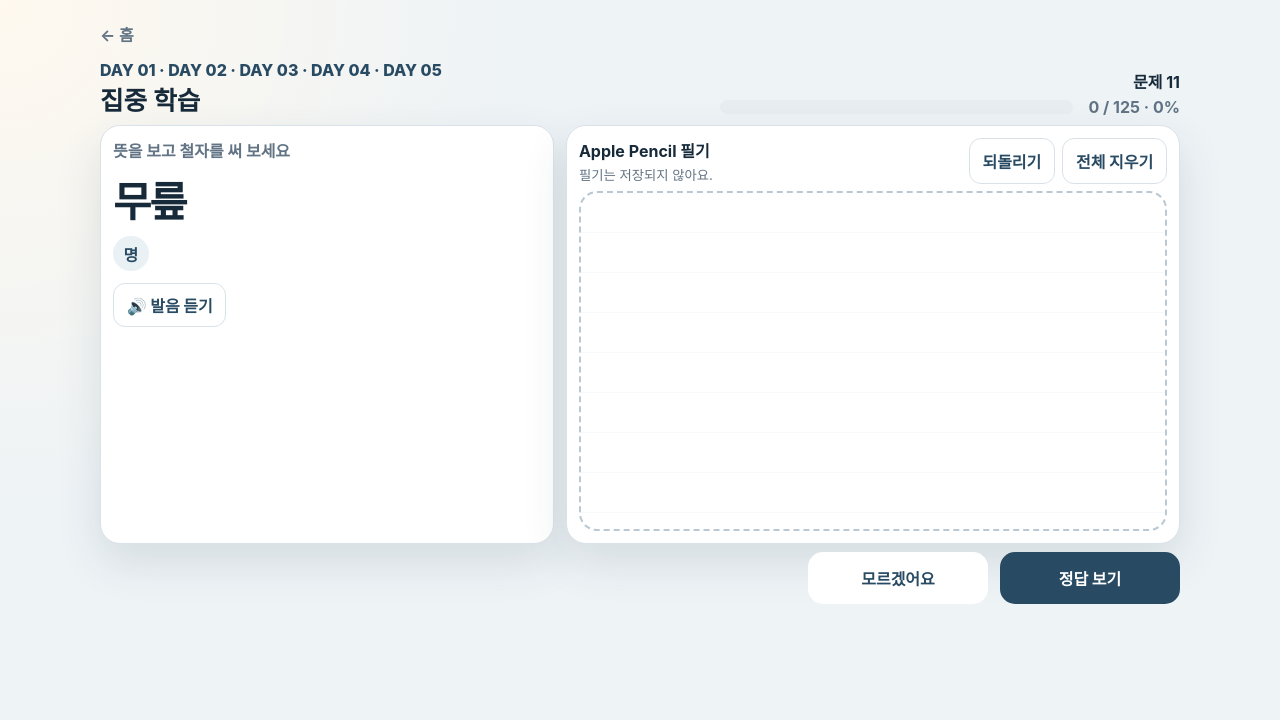
it: reveals pronunciation even when the playback implementation throws
Click the button "🔊 발음 듣기": (170,305) [113,283,226,327]
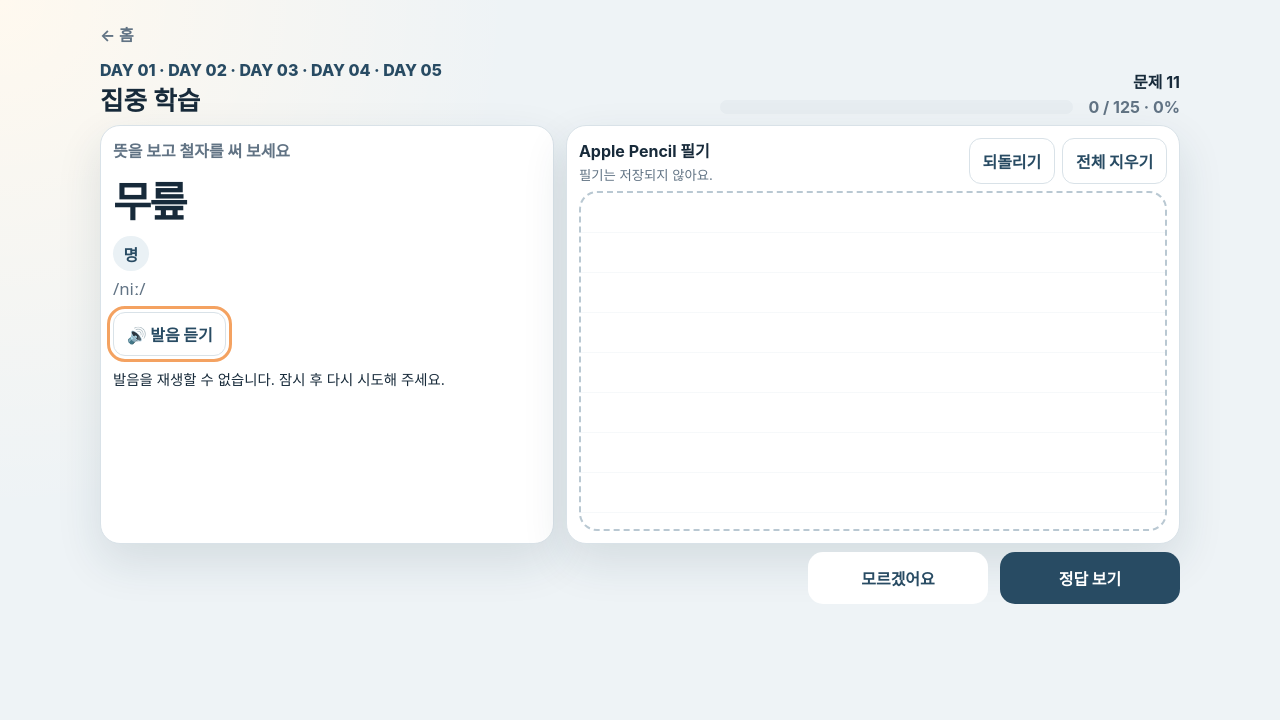
Now the text "/niː/" is shown, box [113,276,146,300]
